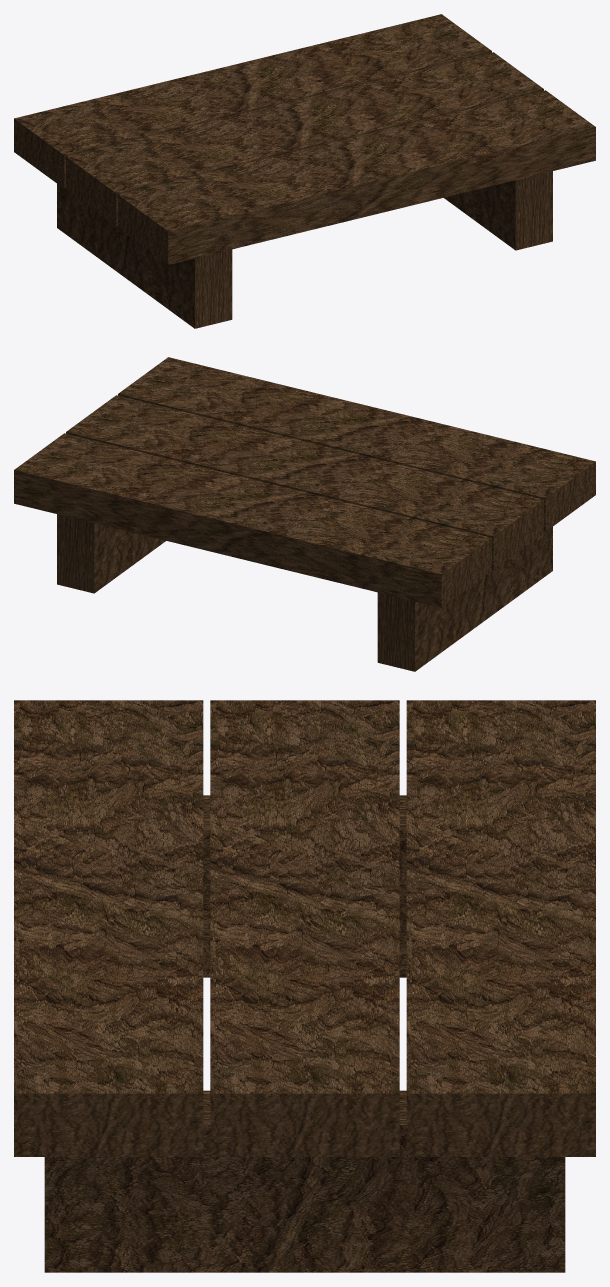
Rendered from prop_piri.glb.
3 renders of one model, top to bottom at view 1: azimuth 30°, elevation 25°; view 2: azimuth 150°, elevation 25°; view 3: azimuth 270°, elevation 25°, orthographic. The views are drawn at different scales.
Parts seen in each view (by area): view 1: prop_piri; view 2: prop_piri; view 3: prop_piri.
Boxes of the visible parts, <box> form: prop_piri: <box>14,14,595,328</box>; prop_piri: <box>14,357,595,671</box>; prop_piri: <box>14,700,595,1272</box>.
Bounding box in the file's own units: 0.4 × 0.1 × 0.25.
1 material, 1 textured.
